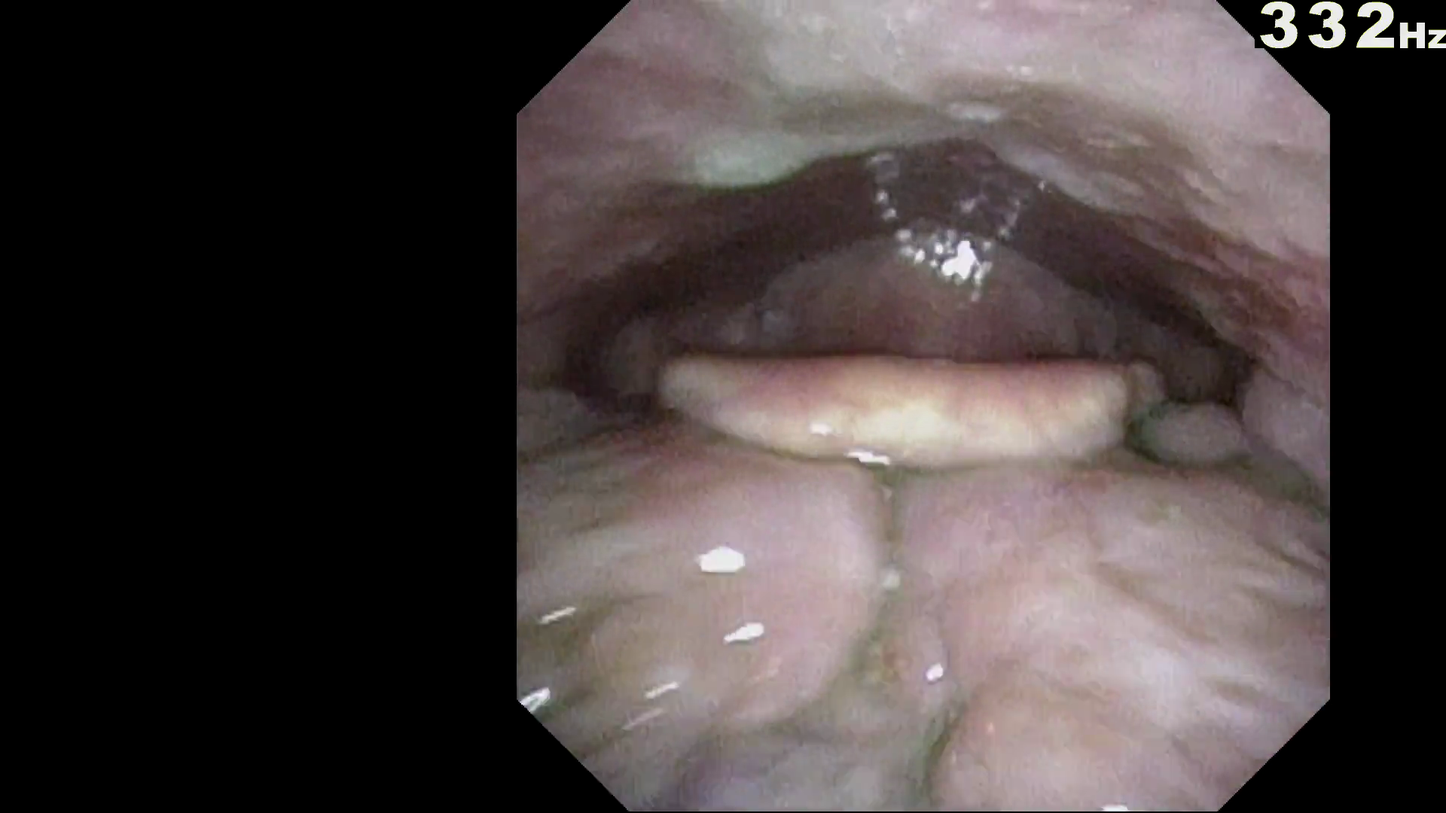epiglottis: (608, 341, 1220, 501)
